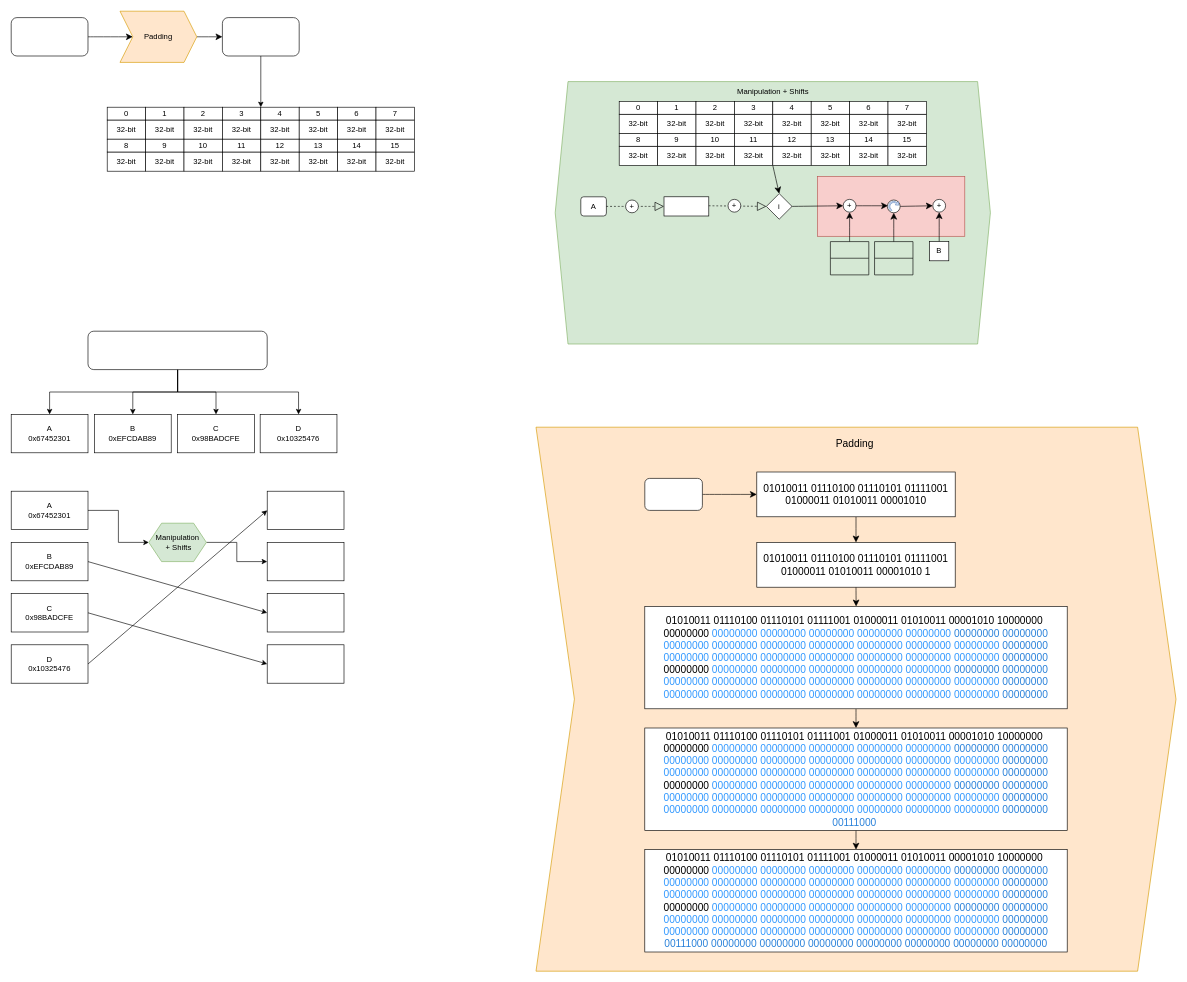
This 1187x982 diagram has some shape labels left out. The centre of each missing label's shape, as x and y in pixels:
"0x67452301EFCDAB8998BADCFE10325476" belongs at pixel 177 350.
"A' 0x10325476" belongs at pixel 305 510.
"B'" belongs at pixel 305 561.
"Binary value that is a multiple of 512" belongs at pixel 260 36.
"C' 0xEFCDAB89" belongs at pixel 305 612.
"D' 0x98BADCFE" belongs at pixel 305 663.
"F (B, C, D)" belongs at pixel 686 206.
"Input String" belongs at pixel 49 36.
"K[]" belongs at pixel 849 258.
"r[]" belongs at pixel 893 258.
"Stuy CS" belongs at pixel 673 494.
